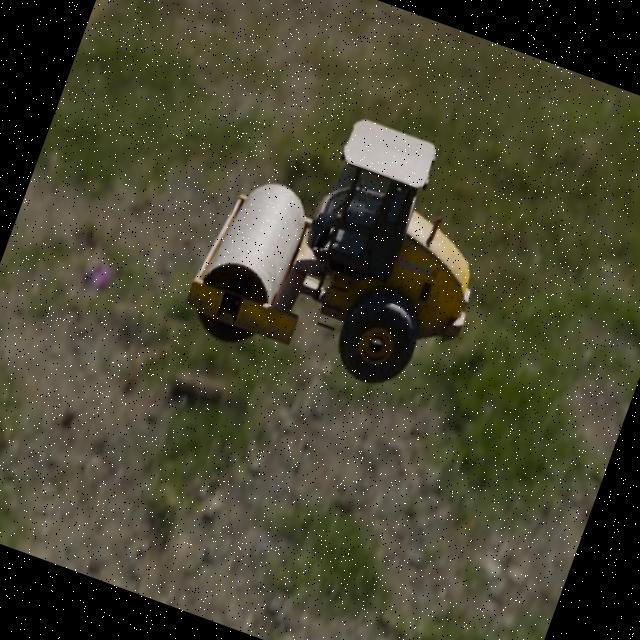Roller: (175, 81, 517, 418)
